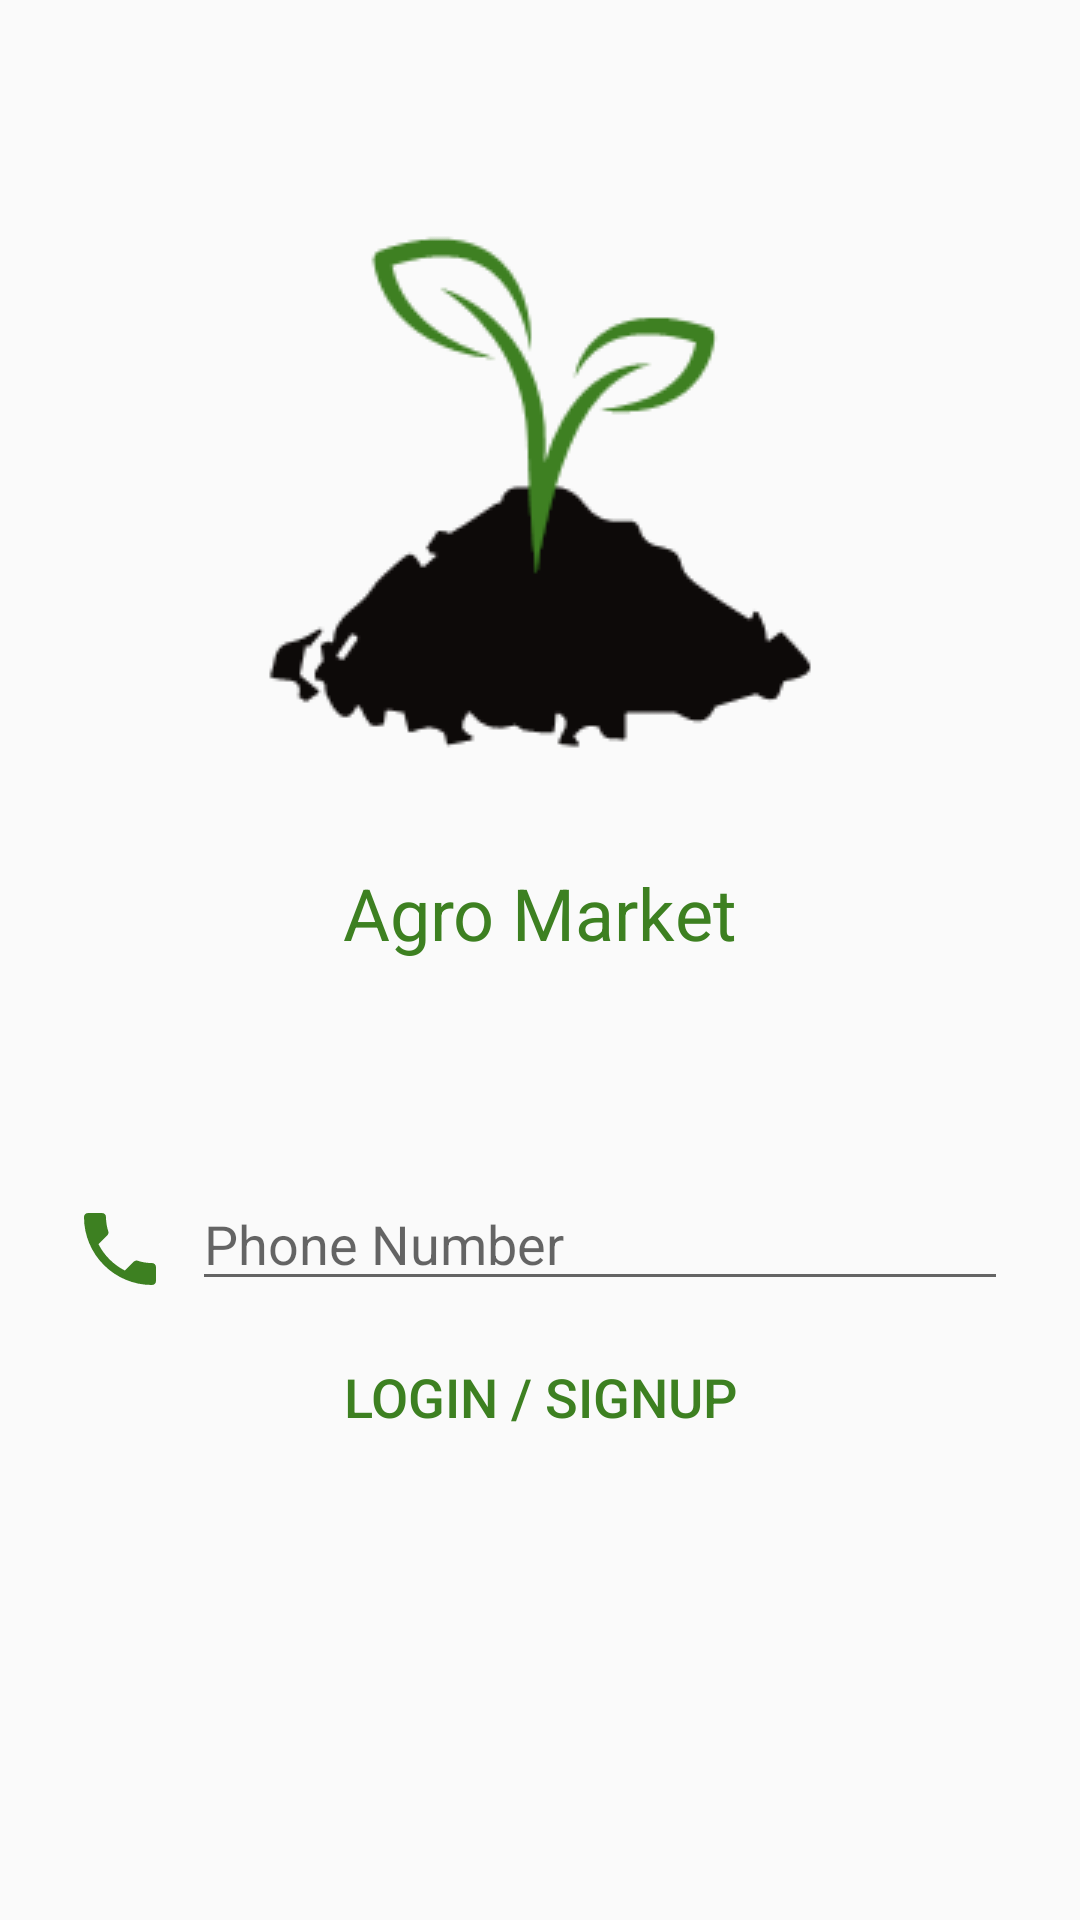

Named icons in this screenshot (1080x1920) and their bounding boxes, rect(x1, y1, x2, y2):
local phone: rect(84, 1213, 156, 1285)
